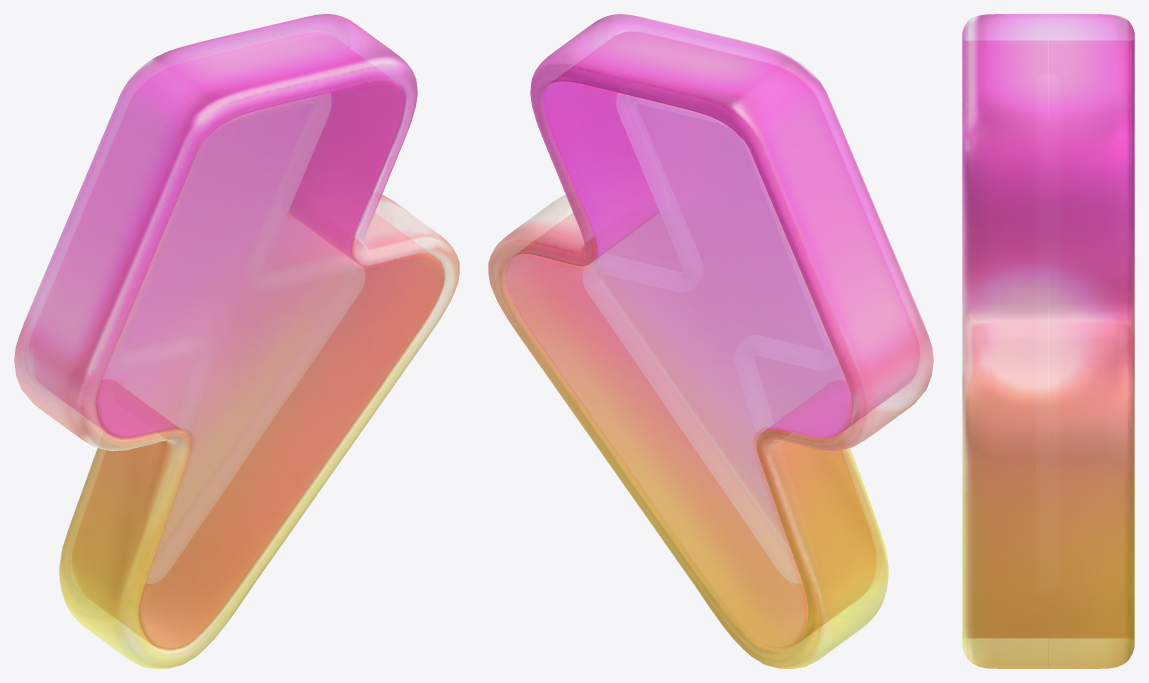
The model's file is Pink.glb.
The picture shows the model from 3 angles, left to right: view 1: azimuth 30°, elevation 25°; view 2: azimuth 150°, elevation 25°; view 3: azimuth 270°, elevation 25°; orthographic projection. The views are drawn at different scales.
Visible parts, largest first — view 1: мат с г; view 2: мат с г; view 3: мат с г.
Part boxes in pixels (left/top/right/bottom): мат с г: left=14, top=14, right=459, bottom=668; мат с г: left=488, top=14, right=933, bottom=668; мат с г: left=962, top=14, right=1134, bottom=668.
Bounding box in the file's own units: 3.11 × 4.33 × 0.996.
Materials: 3 (3 with a texture image).
